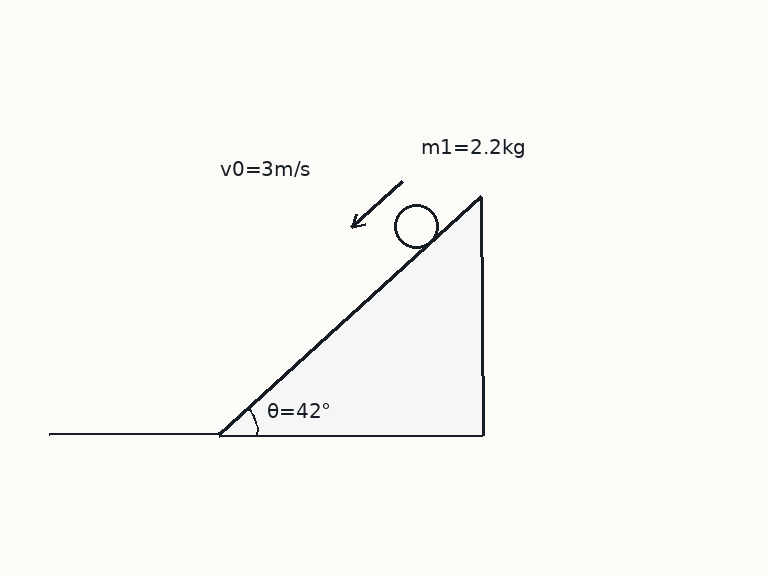ball: (392, 202, 440, 250)
ramp: (216, 194, 484, 436)
